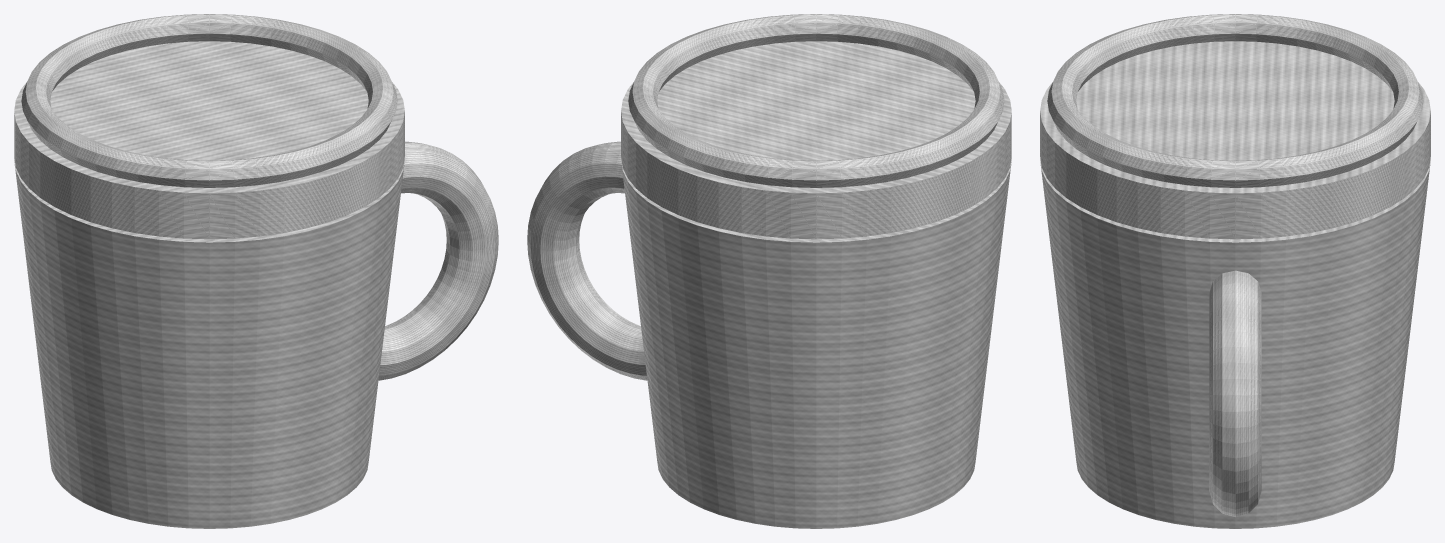
Rendered from cup_variant_d.glb.
3 views of the same model, side by side, from view 1: azimuth 30°, elevation 25°; view 2: azimuth 150°, elevation 25°; view 3: azimuth 270°, elevation 25° (orthographic).
Visible parts, largest first — view 1: Travel mug body, Travel lid, Lid seal ring, Travel mug handle; view 2: Travel mug body, Travel lid, Lid seal ring, Travel mug handle; view 3: Travel mug body, Travel lid, Lid seal ring, Travel mug handle.
Part boxes in pixels (bbox=[...]): Travel mug body: bbox=[14, 159, 404, 528]; Travel lid: bbox=[14, 41, 404, 239]; Lid seal ring: bbox=[21, 14, 397, 187]; Travel mug handle: bbox=[378, 141, 498, 380]; Travel mug body: bbox=[621, 159, 1011, 528]; Travel lid: bbox=[621, 41, 1011, 239]; Lid seal ring: bbox=[628, 14, 1004, 187]; Travel mug handle: bbox=[527, 141, 647, 380]; Travel mug body: bbox=[1040, 159, 1430, 528]; Travel lid: bbox=[1040, 41, 1430, 239]; Lid seal ring: bbox=[1047, 14, 1423, 187]; Travel mug handle: bbox=[1209, 270, 1261, 516].
Size of what is drawn, in the model's own units: 0.363 by 0.285 by 0.27.
4 materials, 4 textured.
